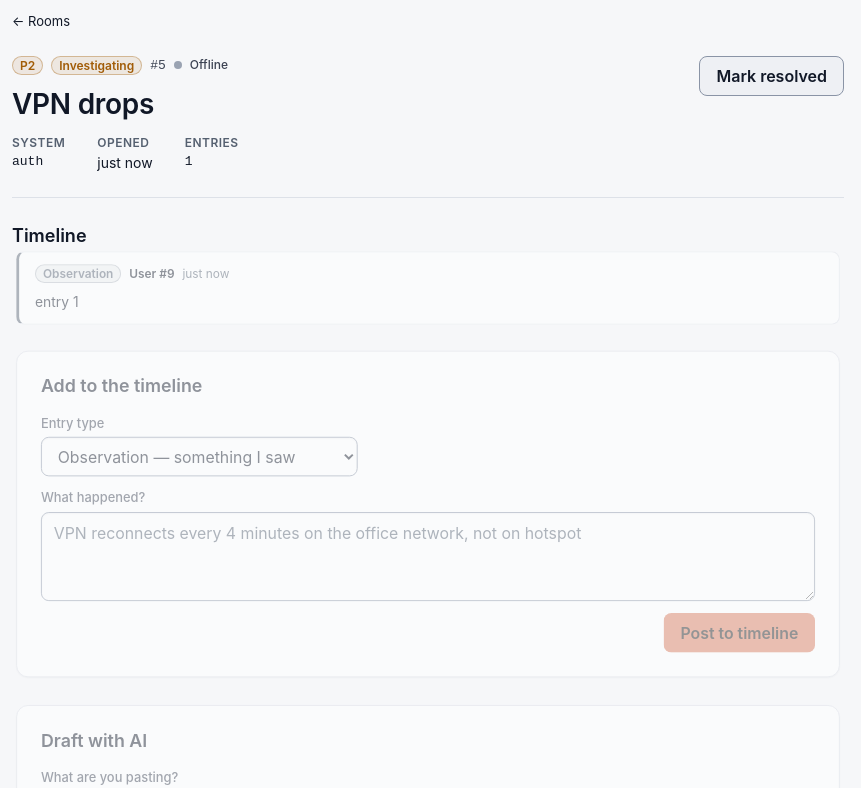
Scenario: RoomDetailsPage › drops the sending row when the post fails
Replace the text in the text box labelled "What happened?" with "Lost": (428, 556) left=41, top=512, right=815, bottom=601
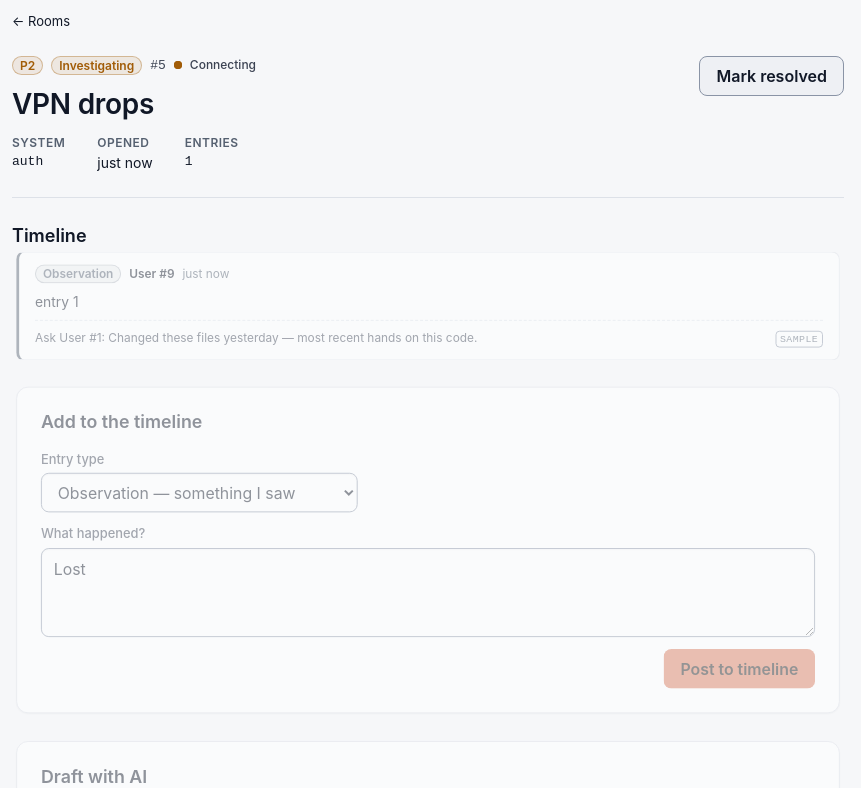
Click the button "Post to timeline": (739, 668) left=664, top=648, right=815, bottom=688
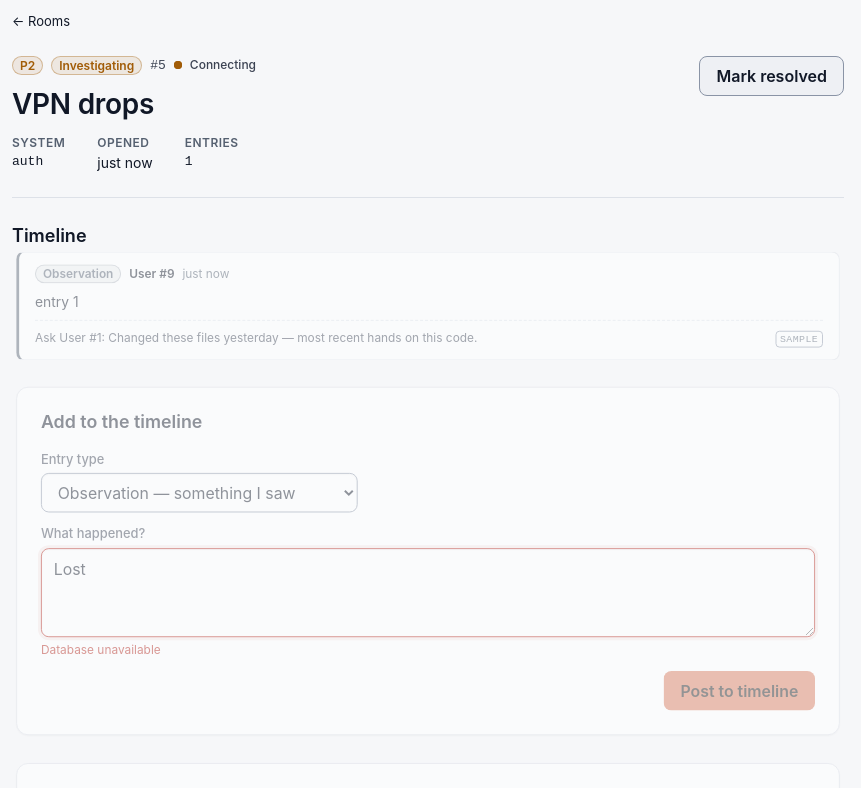
Result: the text "Database unavailable" is shown at left=41, top=642, right=161, bottom=656
